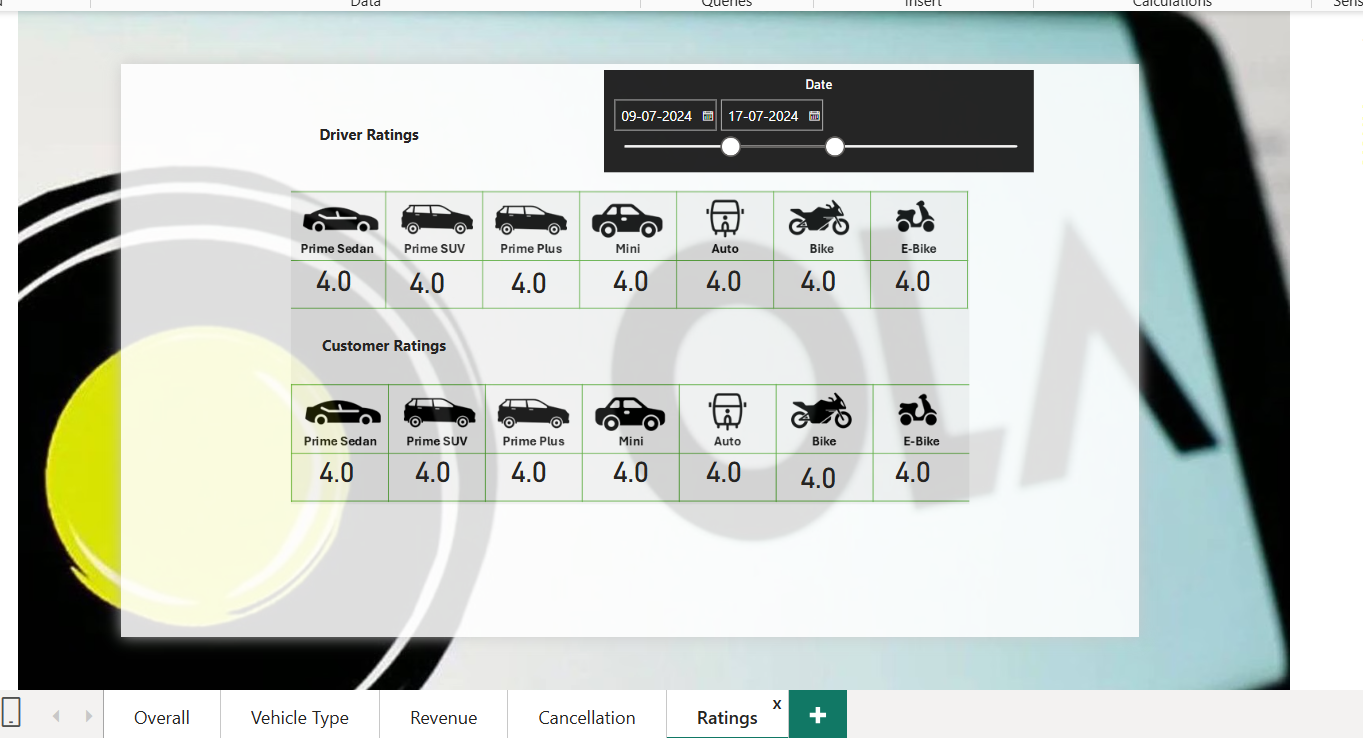

Layout of this report page (visuals, bound fields, positions):
{"tool":"powerbi","page":{"name":"Ratings","canvas":[1280,720],"ordinal":4},"visuals":[{"type":"card","fields":{"Values":["Avg(July.Driver_Ratings)"]},"box":[200,234.7,134.7,71.4],"z":0},{"type":"card","fields":{"Values":["Avg(July.Driver_Ratings)"]},"box":[312.2,236.7,146.9,71.4],"z":1},{"type":"card","fields":{"Values":["Avg(July.Driver_Ratings)"]},"box":[689.8,473.5,134.7,71.4],"z":2},{"type":"card","fields":{"Values":["Avg(July.Driver_Ratings)"]},"box":[573.5,473.5,134.7,71.4],"z":3},{"type":"card","fields":{"Values":["Avg(July.Driver_Ratings)"]},"box":[444.9,473.5,134.7,71.4],"z":4},{"type":"card","fields":{"Values":["Avg(July.Driver_Ratings)"]},"box":[324.5,473.5,134.7,71.4],"z":5},{"type":"card","fields":{"Values":["Avg(July.Customer_Rating)"]},"box":[210.2,481.6,124.5,57.1],"z":6},{"type":"card","fields":{"Values":["Avg(July.Driver_Ratings)"]},"box":[444.9,236.7,134.7,71.4],"z":7},{"type":"card","fields":{"Values":["Avg(July.Driver_Ratings)"]},"box":[928.6,473.5,134.7,71.4],"z":8},{"type":"card","fields":{"Values":["Avg(July.Driver_Ratings)"]},"box":[810.2,481.6,134.7,71.4],"z":9},{"type":"card","fields":{"Values":["Avg(July.Driver_Ratings)"]},"box":[928.6,234.7,134.7,71.4],"z":10},{"type":"card","fields":{"Values":["Avg(July.Driver_Ratings)"]},"box":[810.2,234.7,134.7,71.4],"z":11},{"type":"card","fields":{"Values":["Avg(July.Driver_Ratings)"]},"box":[689.8,234.7,134.7,71.4],"z":12},{"type":"card","fields":{"Values":["Avg(July.Driver_Ratings)"]},"box":[573.5,234.7,134.7,71.4],"z":13},{"type":"textbox","box":[42.9,69.4,536.7,67.3],"z":14},{"type":"textbox","box":[149,336.7,363.3,57.1],"z":15},{"type":"slicer","title":"Date","fields":{"Values":["July.Date"]},"box":[608.2,8.2,540.8,128.6],"z":16}]}

Visuals, with their boxes on the page's 1280x720 design canvas (x1, y1, x2, y2). These are canvas units, not pixel positions in the 1363x738 screenshot, which may show the page scaled, cropped or inside an application window:
card - Avg(July.Driver_Ratings): 200,235,335,306
card - Avg(July.Driver_Ratings): 312,237,459,308
card - Avg(July.Driver_Ratings): 690,474,824,545
card - Avg(July.Driver_Ratings): 574,474,708,545
card - Avg(July.Driver_Ratings): 445,474,580,545
card - Avg(July.Driver_Ratings): 324,474,459,545
card - Avg(July.Customer_Rating): 210,482,335,539
card - Avg(July.Driver_Ratings): 445,237,580,308
card - Avg(July.Driver_Ratings): 929,474,1063,545
card - Avg(July.Driver_Ratings): 810,482,945,553
card - Avg(July.Driver_Ratings): 929,235,1063,306
card - Avg(July.Driver_Ratings): 810,235,945,306
card - Avg(July.Driver_Ratings): 690,235,824,306
card - Avg(July.Driver_Ratings): 574,235,708,306
textbox: 43,69,580,137
textbox: 149,337,512,394
"Date" slicer: 608,8,1149,137
